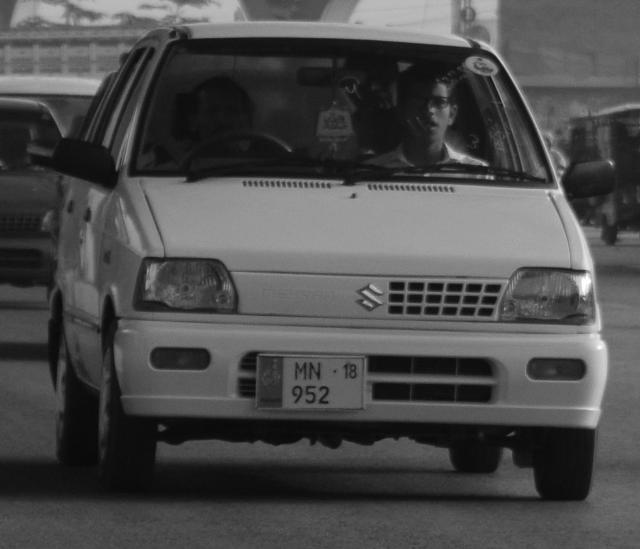Number: (288, 363, 334, 407)
